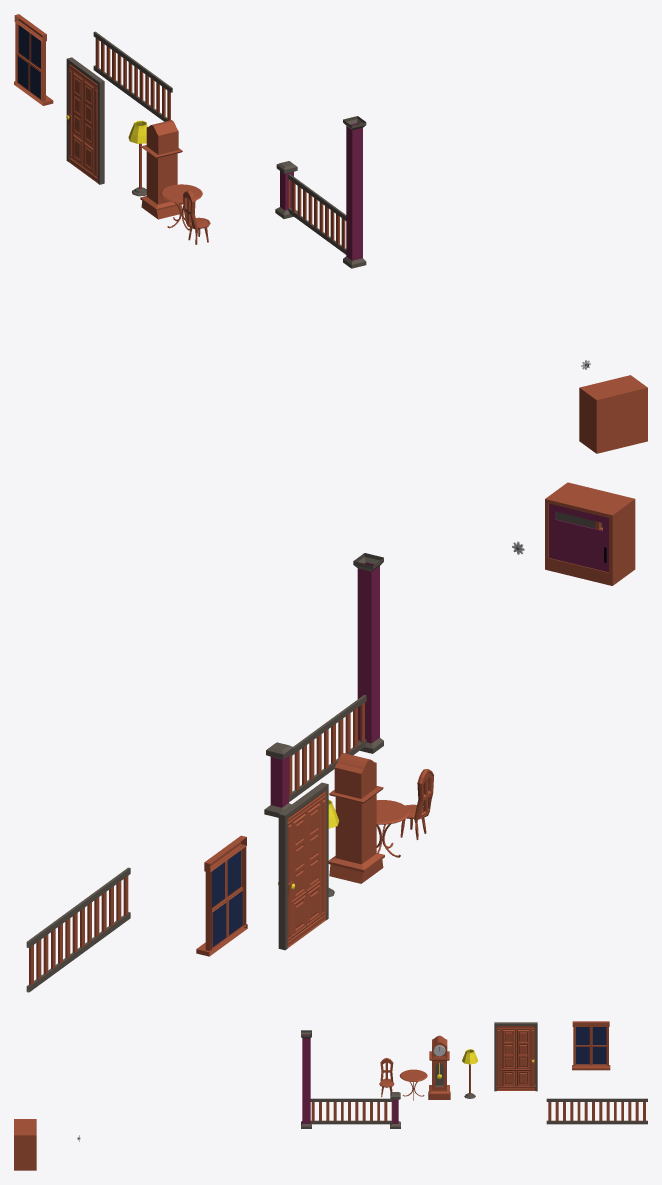
File: phase2_assets.fbx
3 renders of one model, top to bottom at view 1: azimuth 30°, elevation 25°; view 2: azimuth 150°, elevation 25°; view 3: azimuth 270°, elevation 25°, orthographic. The views are drawn at different scales.
Parts seen in each view (by area): view 1: ElectricPanel, FancyDoor, GrandClock, HouseFenceWider, HousePillar, Window, HouseFence, FancyDoorFrame, HouseFenceDiv, OutdoorChair, OutdoorTable, LightStand; view 2: GrandClock, FancyDoor, ElectricPanel, HouseFenceWider, HousePillar, Window, HouseFence, ElectricPanelDoor, FancyDoorFrame, HouseFenceDiv, OutdoorChair, OutdoorTable; view 3: FancyDoor, HouseFenceWider, Window, HouseFence, ElectricPanel, HousePillar, GrandClock, FancyDoorFrame, OutdoorTable, OutdoorChair, HouseFenceDiv, LightStand.
Boxes of the visible parts, bbox=[...] form: ElectricPanel: bbox=[579, 375, 647, 453]; FancyDoor: bbox=[68, 63, 97, 183]; GrandClock: bbox=[140, 120, 183, 219]; HouseFenceWider: bbox=[93, 31, 172, 121]; HousePillar: bbox=[343, 116, 366, 268]; Window: bbox=[14, 14, 53, 105]; HouseFence: bbox=[288, 174, 346, 254]; FancyDoorFrame: bbox=[66, 57, 104, 184]; HouseFenceDiv: bbox=[275, 161, 297, 218]; OutdoorChair: bbox=[183, 190, 210, 244]; OutdoorTable: bbox=[160, 184, 202, 230]; LightStand: bbox=[128, 120, 147, 196]; GrandClock: bbox=[328, 753, 384, 883]; FancyDoor: bbox=[287, 790, 326, 947]; ElectricPanel: bbox=[545, 482, 635, 585]; HouseFenceWider: bbox=[26, 867, 130, 992]; HousePillar: bbox=[353, 553, 383, 753]; Window: bbox=[196, 835, 247, 956]; HouseFence: bbox=[289, 695, 366, 801]; ElectricPanelDoor: bbox=[549, 503, 608, 572]; FancyDoorFrame: bbox=[278, 782, 328, 950]; HouseFenceDiv: bbox=[264, 742, 293, 817]; OutdoorChair: bbox=[400, 769, 433, 839]; OutdoorTable: bbox=[376, 800, 409, 857]; FancyDoor: bbox=[496, 1026, 535, 1090]; HouseFenceWider: bbox=[546, 1098, 647, 1124]; Window: bbox=[572, 1021, 610, 1070]; HouseFence: bbox=[310, 1098, 392, 1124]; ElectricPanel: bbox=[14, 1119, 36, 1170]; HousePillar: bbox=[301, 1030, 311, 1128]; GrandClock: bbox=[428, 1035, 450, 1099]; FancyDoorFrame: bbox=[494, 1022, 537, 1091]; OutdoorTable: bbox=[399, 1069, 427, 1100]; OutdoorChair: bbox=[379, 1058, 394, 1097]; HouseFenceDiv: bbox=[390, 1092, 400, 1128]; LightStand: bbox=[462, 1049, 477, 1098].
Bounding box in the file's own units: 491 × 440 × 2191.
